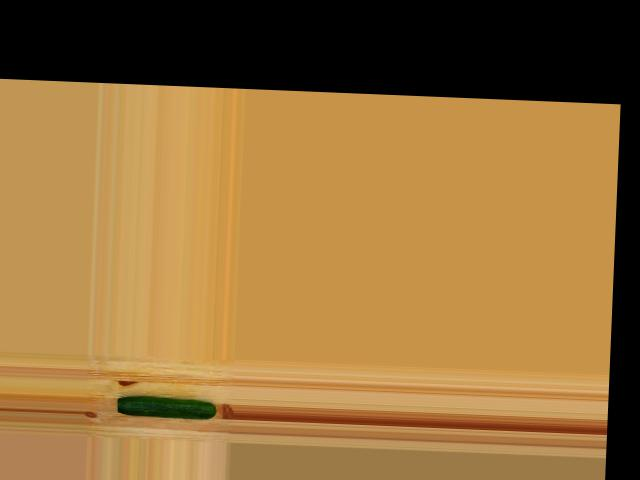cucumber: (117, 395, 217, 419)
